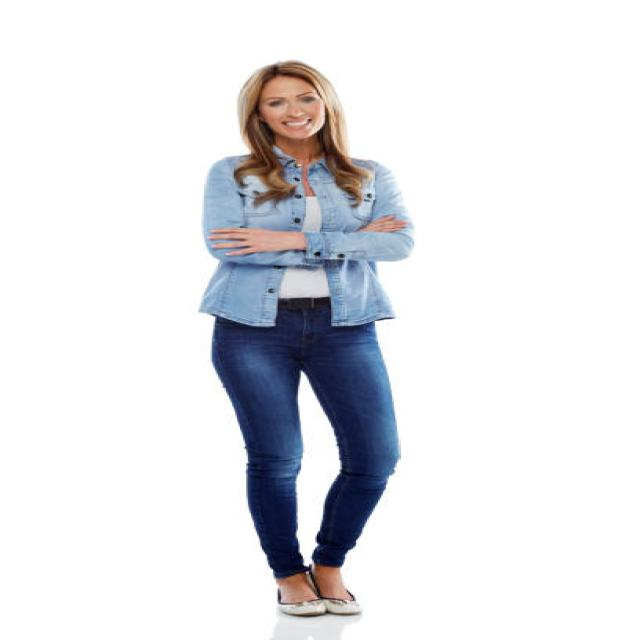Edited images: (178, 51, 446, 628)
